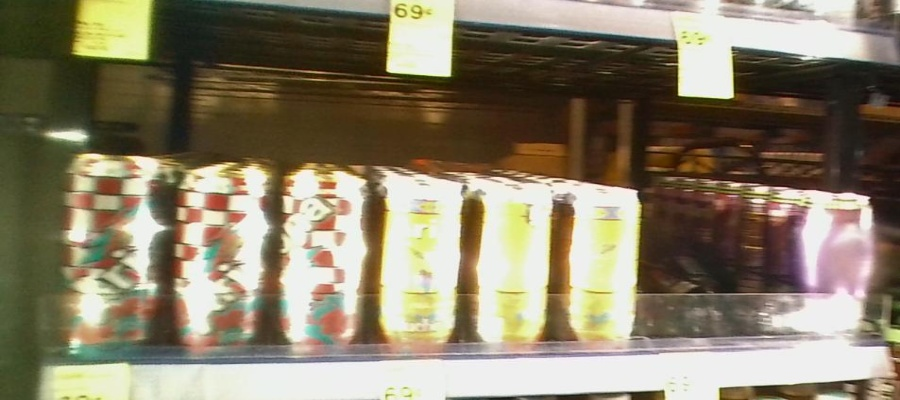bottle: (59, 147, 166, 349), (173, 166, 269, 353), (276, 167, 369, 352), (471, 170, 562, 351), (377, 175, 470, 352), (565, 179, 647, 356), (799, 188, 875, 337)
